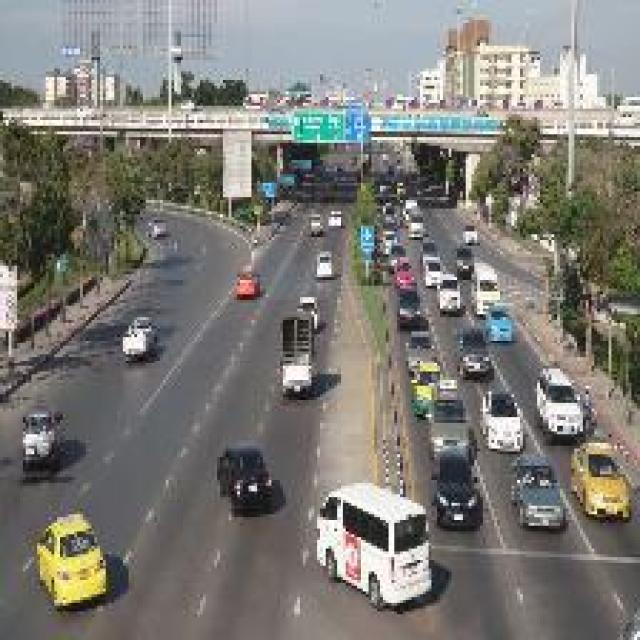other: (36, 498, 112, 612), (556, 433, 627, 527)
